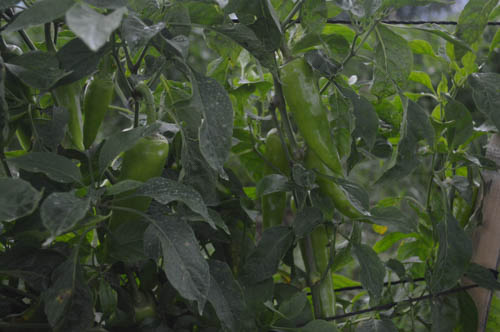ChiliPepper: (284, 62, 345, 164), (117, 137, 162, 214), (309, 164, 365, 219), (258, 132, 286, 223), (82, 81, 114, 145), (56, 87, 82, 150)
